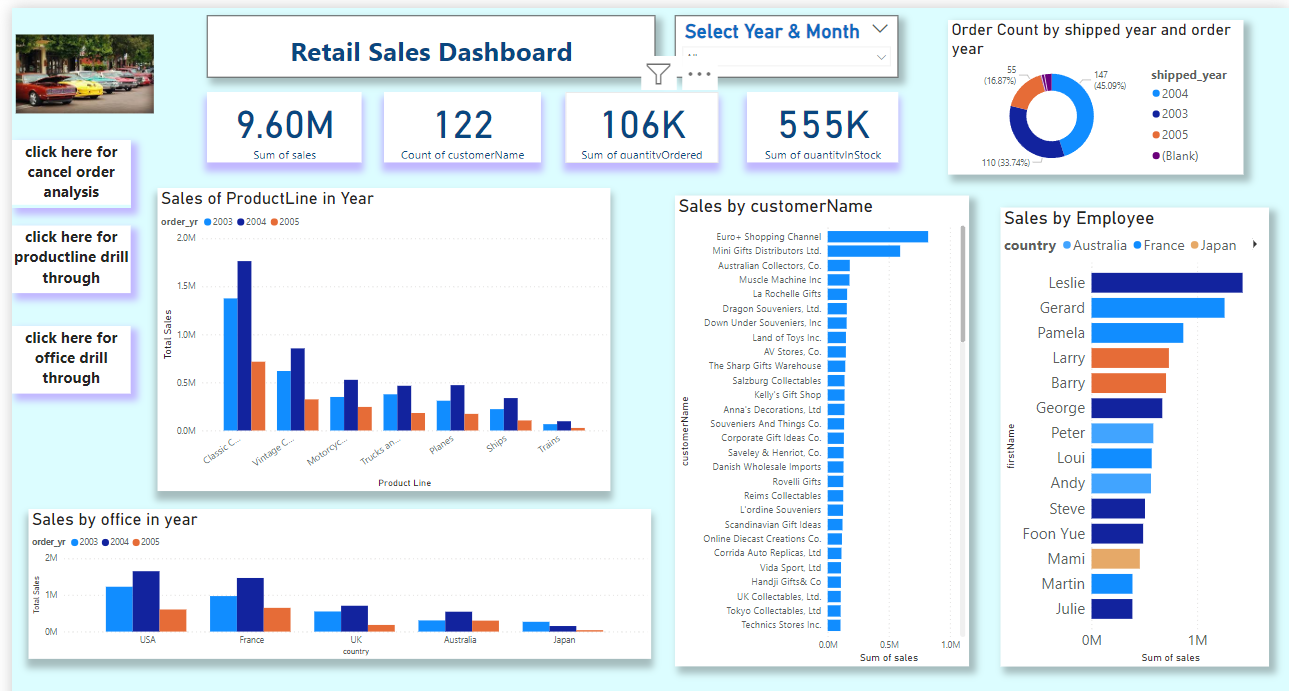

This screenshot's page, from the dashboard's own definition file:
{"tool":"powerbi","page":{"name":"Home Page","canvas":[1300,1200],"ordinal":0},"visuals":[{"type":"shape","box":[19.8,10.7,233.5,670.1],"z":0},{"type":"actionButton","title":"click here for productline drill through","box":[50.4,403,167.9,96.2],"z":1000},{"type":"textbox","box":[274.8,10.7,631.9,87],"z":2000},{"type":"slicer","fields":{"Values":["orders.order_yr","orders.order_mnth"]},"box":[934.2,10.7,314.4,87],"z":3000},{"type":"card","fields":{"Values":["orderdetails.sales"]},"box":[274.8,117.5,218.3,99.2],"z":4000},{"type":"card","fields":{"Values":["customers.customerName"]},"box":[525.1,117.5,221.3,99.2],"z":5000},{"type":"card","fields":{"Values":["orderdetails.quantityOrdered"]},"box":[780,119.1,215.2,99.2],"z":6000},{"type":"card","fields":{"Values":["products.quantityInStock"]},"box":[1035.5,118.7,213.4,99.2],"z":7000},{"type":"clusteredColumnChart","title":"Sales of ProductLine in Year","fields":{"Category":["products.productLine"],"Y":["orderdetails.sales"],"Series":["orders.order_yr"]},"box":[291,261,980,190],"z":8000},{"type":"clusteredColumnChart","title":"Sales by office in year","fields":{"Y":["orderdetails.sales"],"Category":["offices.country"],"Series":["orders.order_yr"]},"box":[290,480,980,202],"z":9000},{"type":"actionButton","title":"click here for office drill through","box":[50.4,532.7,167.9,94.6],"z":10000},{"type":"actionButton","title":"click here for cancel order analysis","box":[51.9,280.9,167.9,96.2],"z":11000},{"type":"image","box":[35.1,25.9,204.5,192.3],"z":12000}]}

Visuals, with their boxes on the page's 1300x1200 design canvas (x1, y1, x2, y2). These are canvas units, not pixel positions in the 1289x691 screenshot, which may show the page scaled, cropped or inside an application window:
shape: detection(20, 11, 253, 681)
"click here for productline drill through" actionButton: detection(50, 403, 218, 499)
textbox: detection(275, 11, 907, 98)
slicer - orders.order_yr x orders.order_mnth: detection(934, 11, 1249, 98)
card - orderdetails.sales: detection(275, 118, 493, 217)
card - customers.customerName: detection(525, 118, 746, 217)
card - orderdetails.quantityOrdered: detection(780, 119, 995, 218)
card - products.quantityInStock: detection(1036, 119, 1249, 218)
"Sales of ProductLine in Year" clusteredColumnChart: detection(291, 261, 1271, 451)
"Sales by office in year" clusteredColumnChart: detection(290, 480, 1270, 682)
"click here for office drill through" actionButton: detection(50, 533, 218, 627)
"click here for cancel order analysis" actionButton: detection(52, 281, 220, 377)
image: detection(35, 26, 240, 218)
